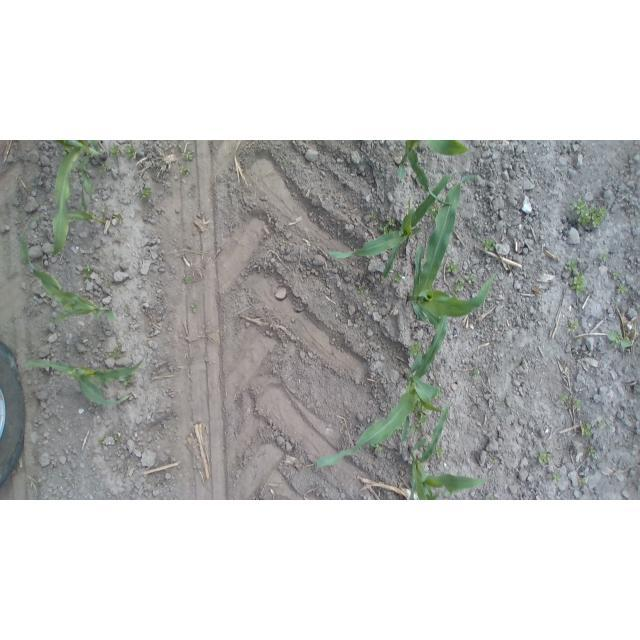Maize: (316, 312, 454, 472), (407, 172, 502, 344), (328, 167, 460, 281), (15, 225, 119, 327), (397, 397, 487, 500), (42, 141, 112, 256), (22, 348, 149, 408), (393, 140, 472, 210), (42, 186, 102, 231)
Weeds: (573, 199, 608, 230), (564, 259, 587, 299), (413, 403, 435, 429), (606, 329, 632, 350), (406, 339, 427, 357), (535, 447, 553, 467), (481, 237, 500, 255), (177, 145, 195, 162), (80, 265, 97, 282), (136, 184, 153, 200), (391, 269, 406, 286), (368, 440, 384, 455), (432, 446, 448, 461), (579, 422, 594, 438), (566, 317, 581, 333), (380, 219, 396, 234), (462, 273, 478, 288), (123, 144, 137, 160), (119, 375, 135, 389), (469, 367, 483, 382), (355, 285, 369, 300), (560, 393, 573, 408), (109, 144, 122, 159), (179, 165, 194, 178), (444, 263, 460, 274), (586, 442, 598, 456), (616, 283, 630, 295), (98, 162, 109, 177), (453, 278, 463, 294), (112, 212, 125, 224), (597, 252, 611, 263), (182, 275, 196, 286), (551, 471, 563, 483), (110, 433, 122, 445), (97, 436, 106, 452), (186, 187, 197, 199), (104, 280, 114, 293), (113, 348, 124, 359), (572, 400, 582, 412), (610, 269, 620, 281), (190, 302, 200, 314), (597, 422, 608, 432), (366, 212, 378, 220), (579, 478, 588, 487)
